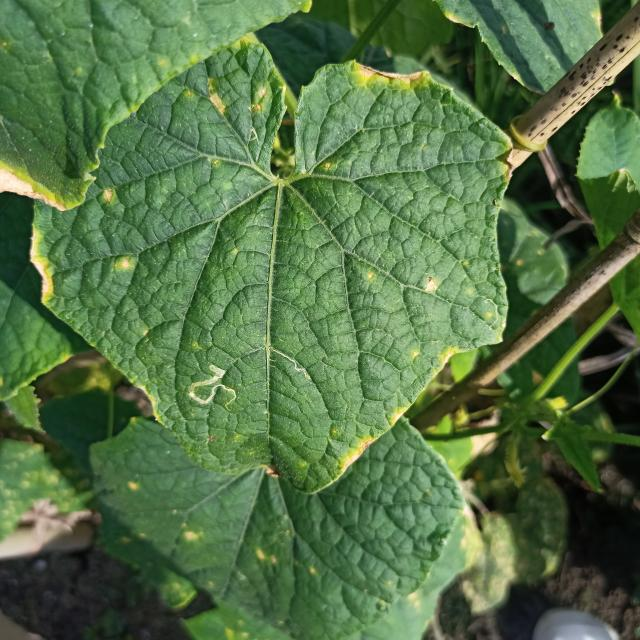disease_cucumber: (207, 82, 271, 123), (410, 344, 464, 371), (115, 253, 136, 275), (101, 187, 117, 207), (424, 274, 440, 294)
